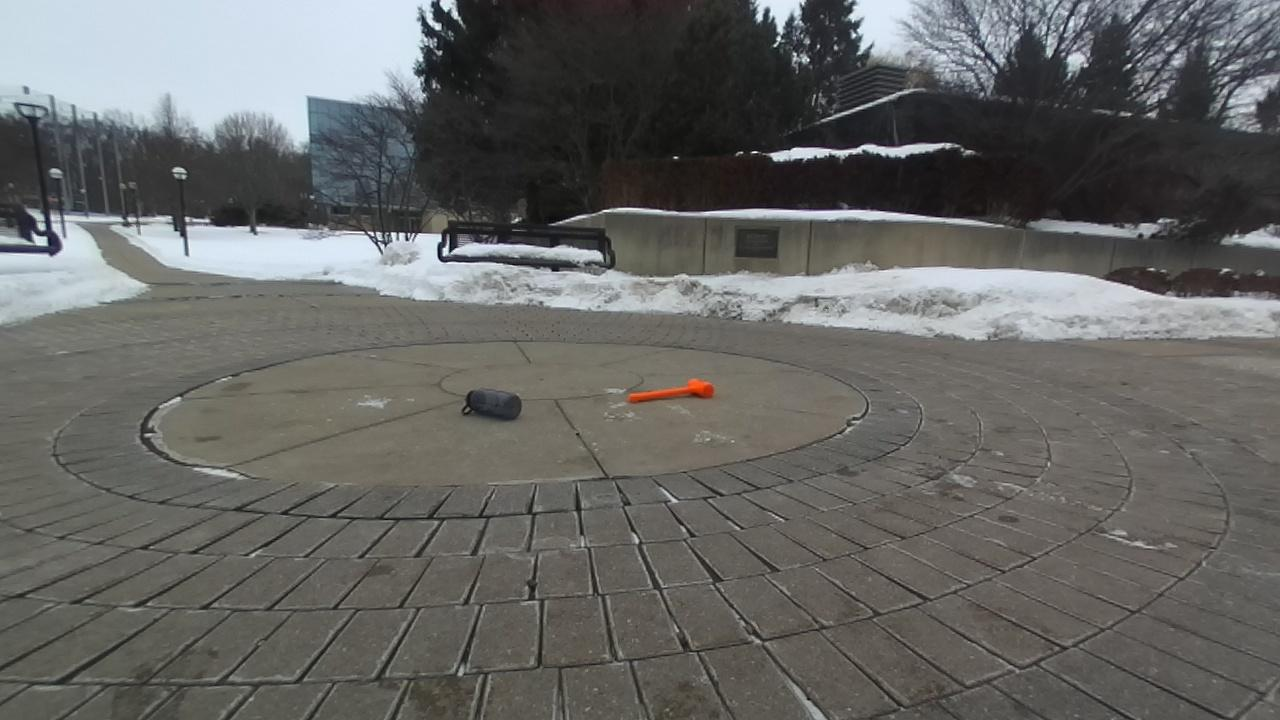bottle: (463, 389, 522, 419)
mallet: (628, 378, 714, 402)
